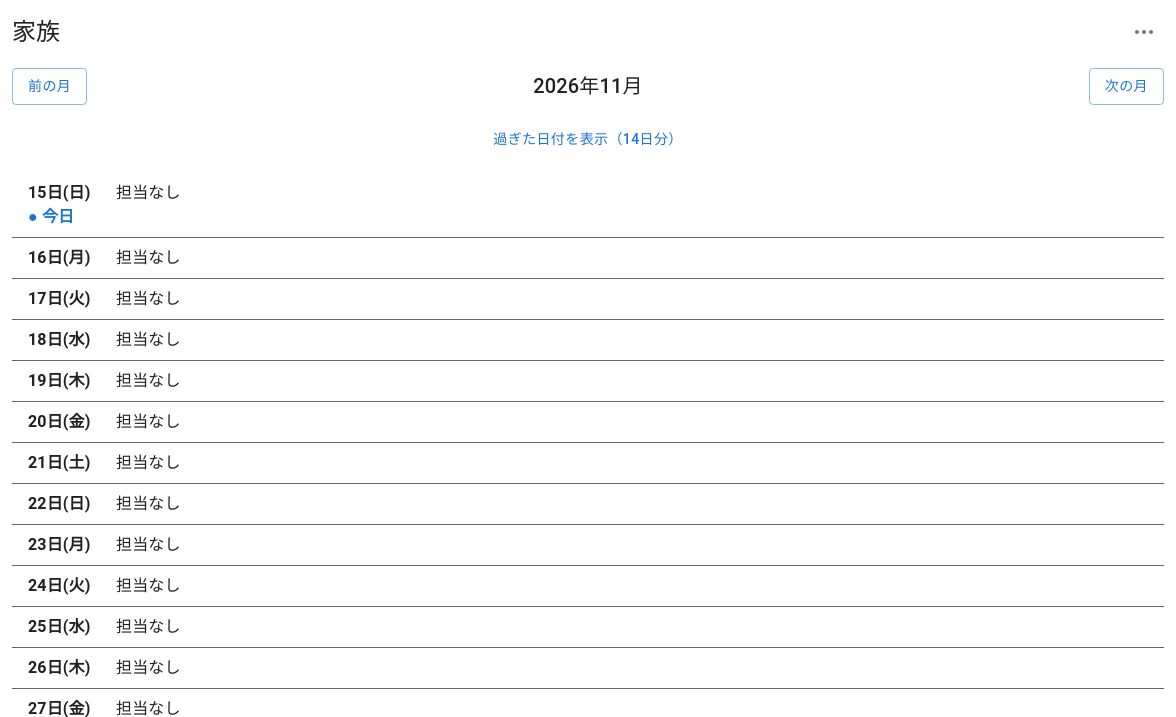
Scenario: 今日以降を初期表示し、過去を展開・再度折りたためる
Click the button "過ぎた日付を表示（14日分）".
click(588, 139)  # box [12,120,1164,157]
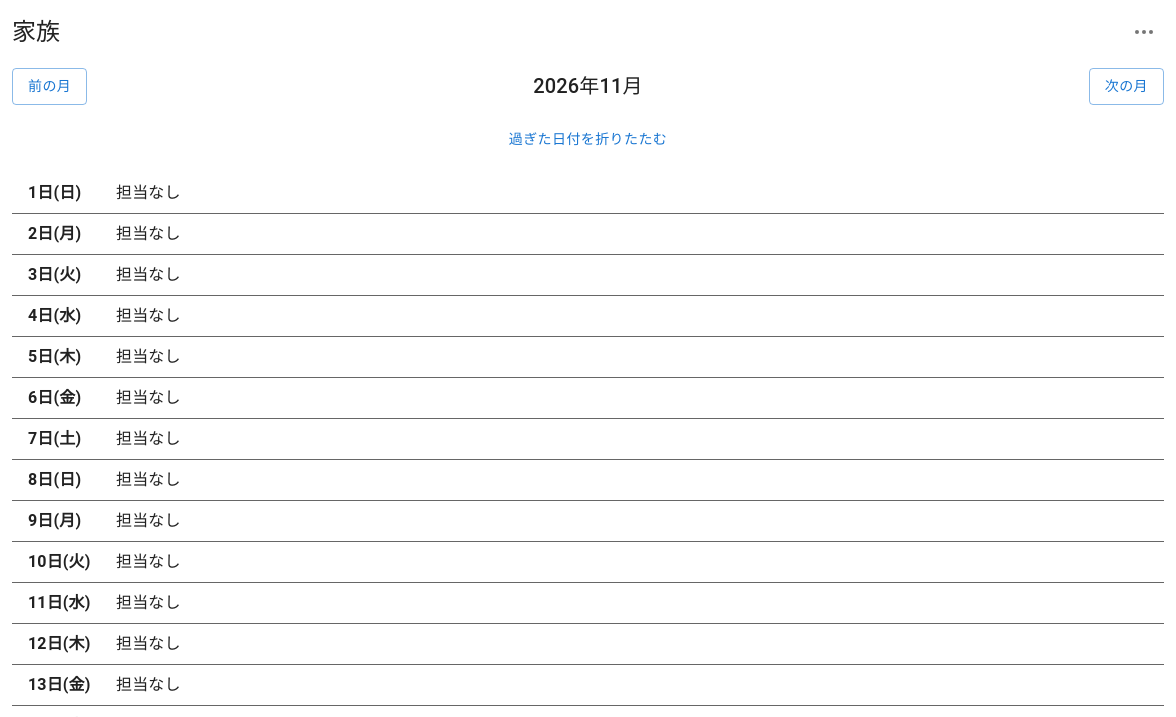
Now the number of list items with test id "day-row" is 30
Now the button named "過ぎた日付を表示（14日分）" is expanded
Click the button named "過ぎた日付を表示（14日分）".
click(588, 139)  # box [12,120,1164,157]
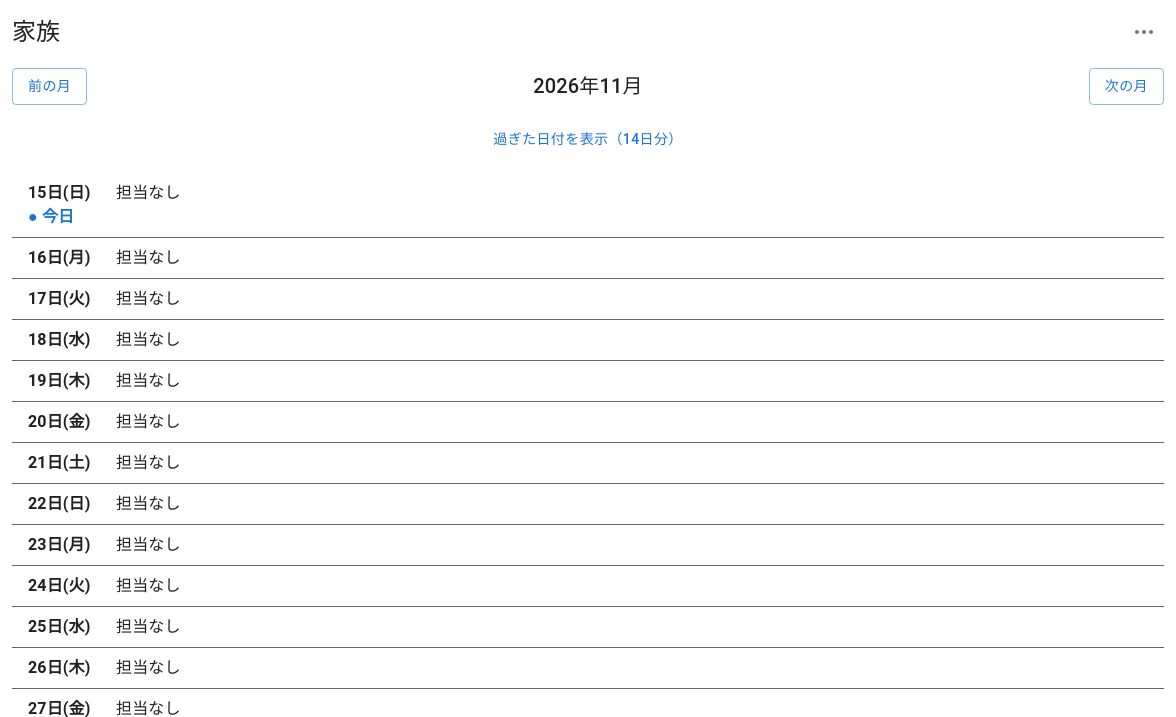
Now the number of list items with test id "day-row" is 16
